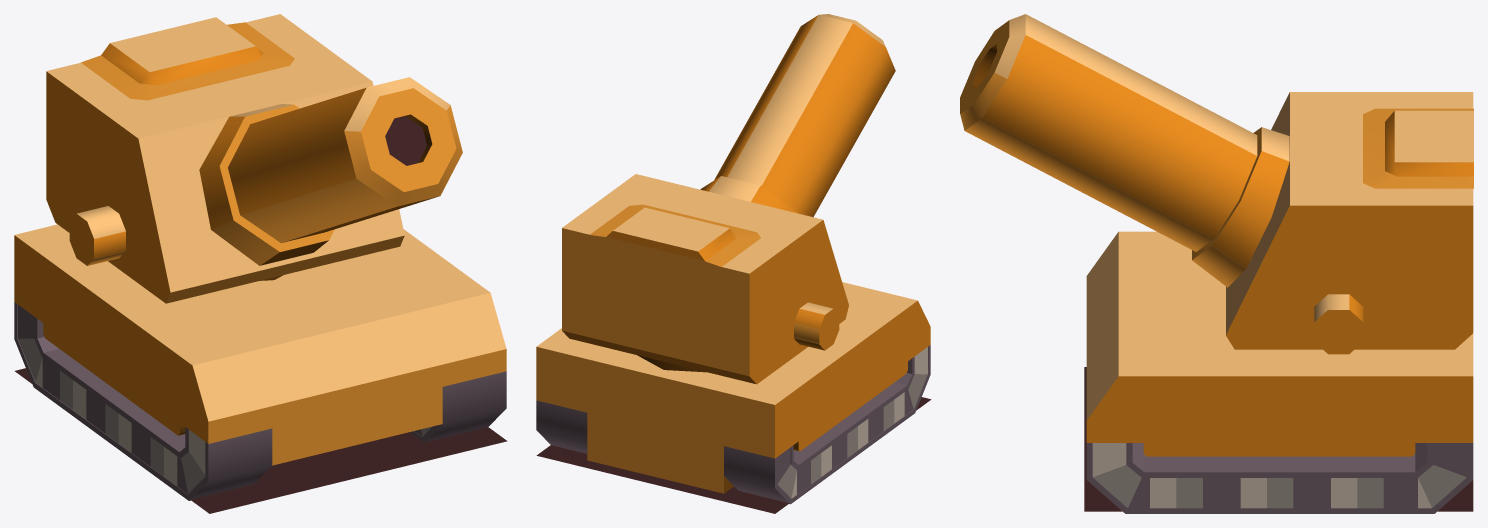
Rendered from ArtillertyMesh.AmberBlaze.glb.
3 renders of one model, left to right at view 1: azimuth 30°, elevation 25°; view 2: azimuth 150°, elevation 25°; view 3: azimuth 270°, elevation 25°, orthographic. The views are drawn at different scales.
Parts seen in each view (by area): view 1: ArtillertyMesh.AmberBlaze; view 2: ArtillertyMesh.AmberBlaze; view 3: ArtillertyMesh.AmberBlaze.
Boxes of the visible parts, x1,y1,x2,y2 form: ArtillertyMesh.AmberBlaze: (14, 14, 507, 513); ArtillertyMesh.AmberBlaze: (536, 14, 931, 513); ArtillertyMesh.AmberBlaze: (960, 14, 1473, 513).
Size of the model in its own units: 1.4 by 1.88 by 2.1.
1 material, 1 textured.
